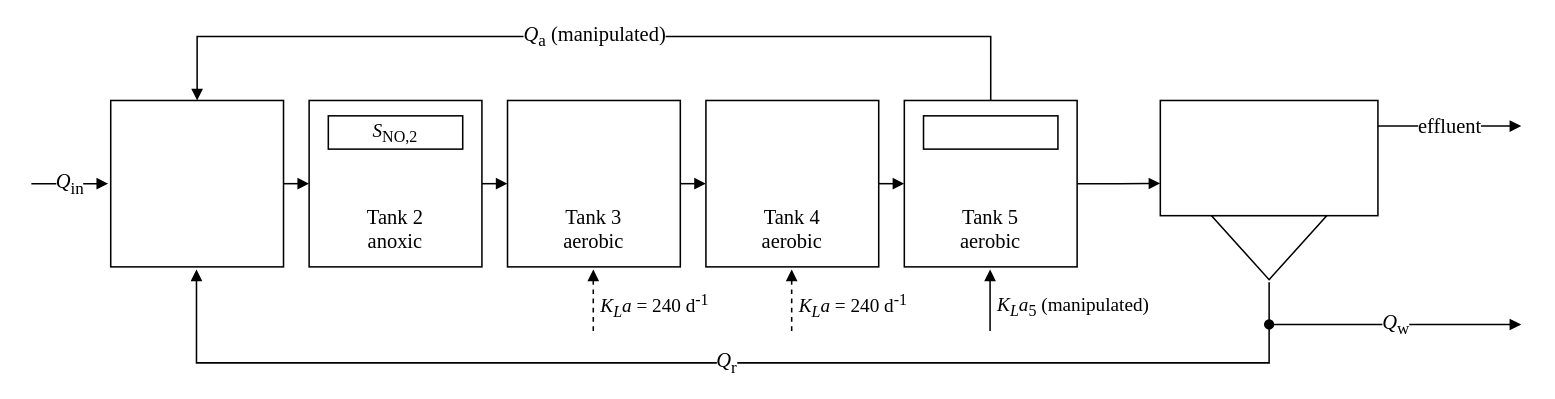
The diagram is 1555 pixels wide and 399 high, and some of its shapes have lost their labels. Here are the shapes that lost their labels. From the top down, the centre of each, then its label:
the point at 990,131: S O,5
the point at 1268,157: Settler
the point at 196,183: Tank 1 anoxic
